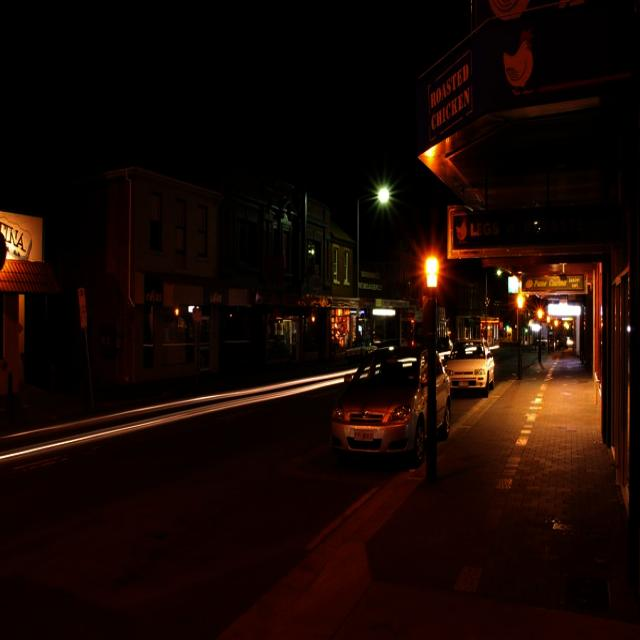Car: (332, 349, 453, 467), (452, 335, 494, 401)
